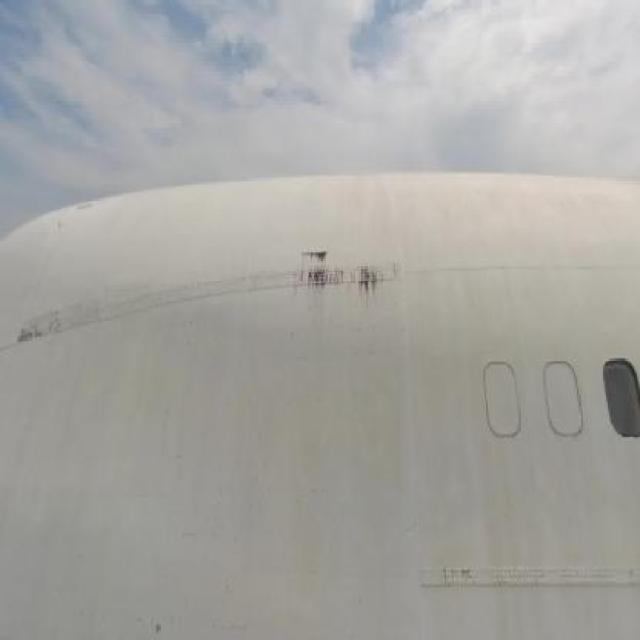Rust: (280, 235, 392, 314)
Scartch: (12, 303, 72, 352)
